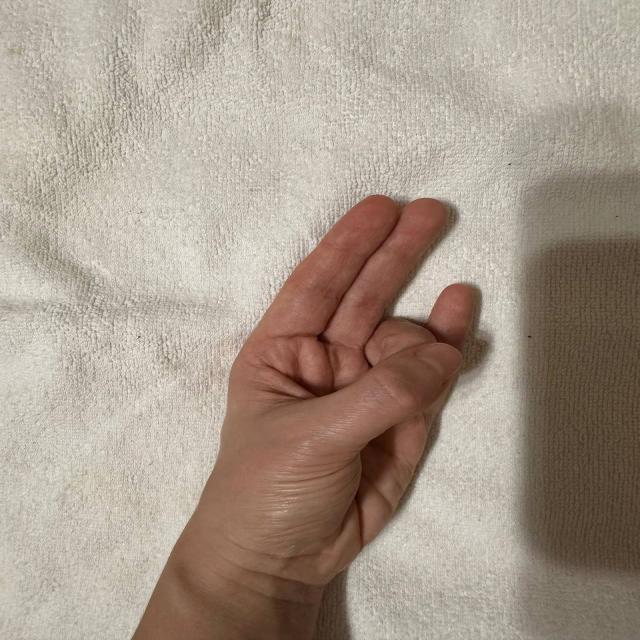n: (191, 160, 487, 595)
